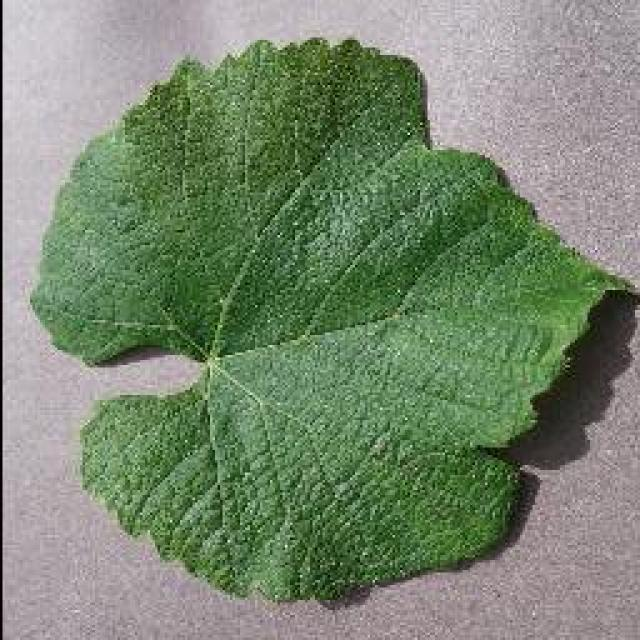Grape___healthy: (30, 38, 628, 600)
